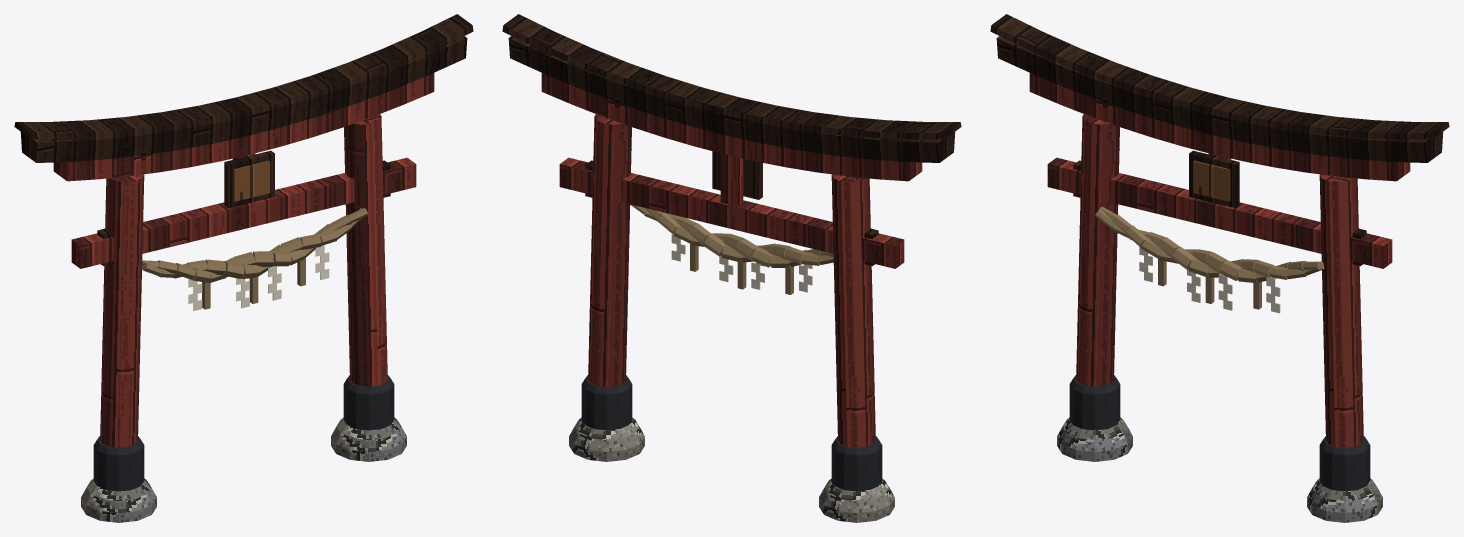
File: JP_Shrine_Torii_A.glb
3 renders of one model, left to right at view 1: azimuth 30°, elevation 25°; view 2: azimuth 150°, elevation 25°; view 3: azimuth 330°, elevation 25°, orthographic.
Parts seen in each view (by area): view 1: JP_Shrine_Torii_A; view 2: JP_Shrine_Torii_A; view 3: JP_Shrine_Torii_A.
Part boxes in pixels (x1=…): JP_Shrine_Torii_A: x1=14, y1=14, x2=473, y2=522; JP_Shrine_Torii_A: x1=502, y1=14, x2=961, y2=522; JP_Shrine_Torii_A: x1=990, y1=14, x2=1449, y2=522.
Size of the model in its own units: 5.66 by 4.93 by 0.84.
7 materials, 7 textured.
